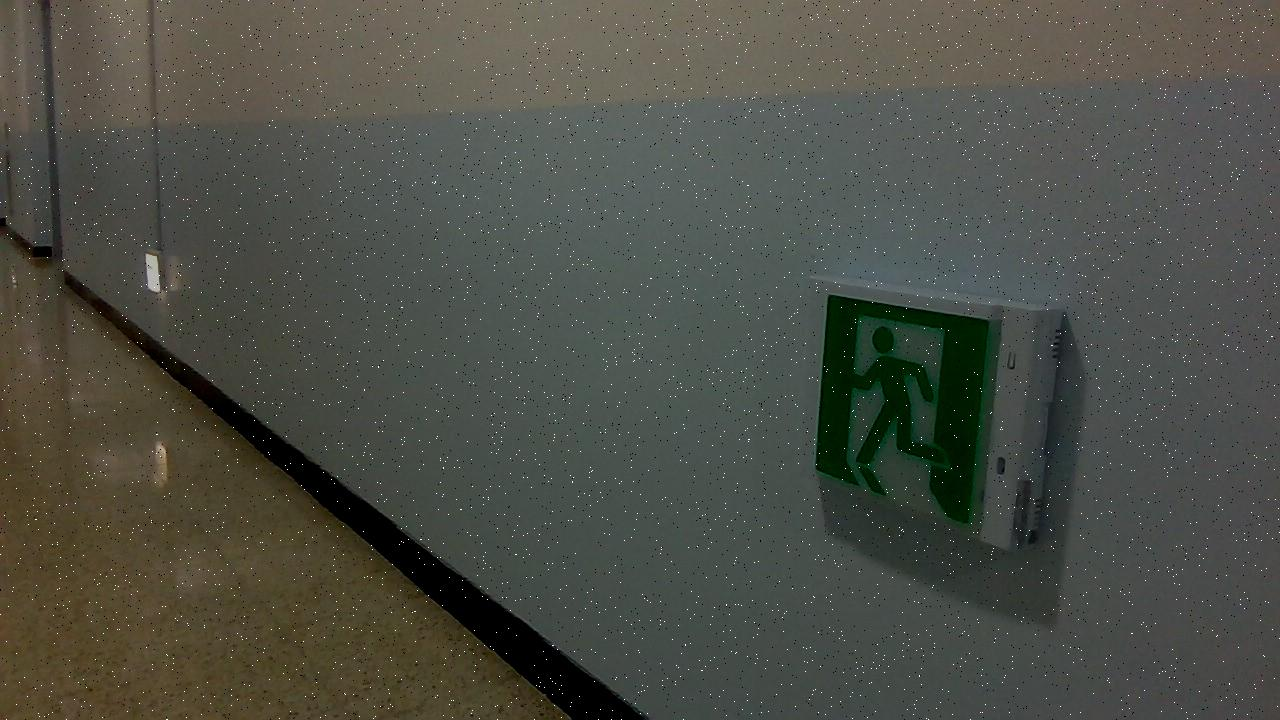emergency_exit: (812, 287, 1065, 552)
